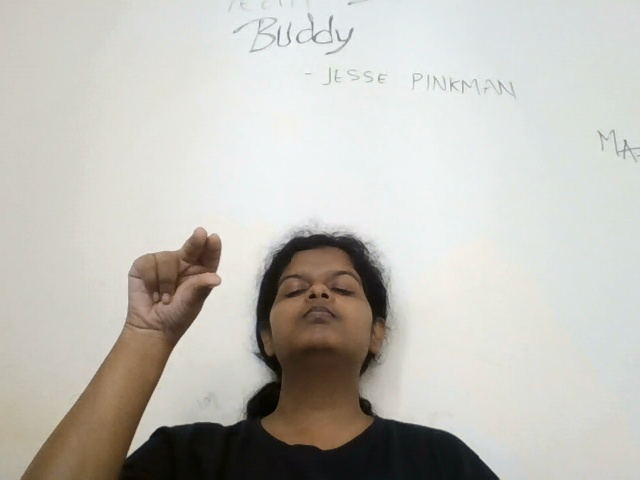no: (103, 216, 241, 341)
